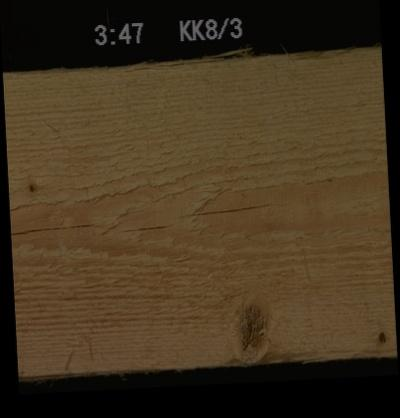dry_knot: (373, 327, 387, 343)
small_knot: (24, 179, 37, 194)
sound_knot: (228, 298, 268, 358)
split: (49, 53, 263, 67), (174, 205, 270, 216), (9, 223, 95, 234), (116, 219, 174, 231)
wave: (215, 351, 395, 364)
